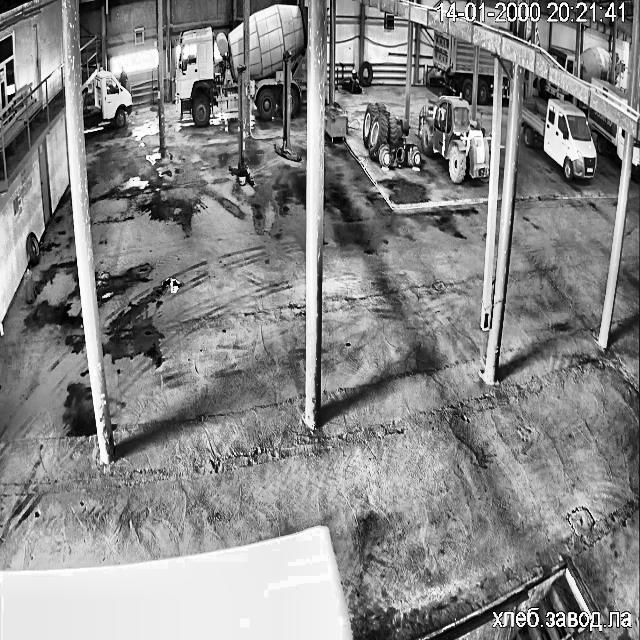class4: (119, 68, 128, 90)
class6: (418, 96, 489, 181), (362, 103, 420, 166)
class7: (176, 24, 244, 124), (248, 4, 306, 118), (521, 100, 596, 180), (433, 29, 474, 101), (83, 70, 132, 130), (588, 108, 624, 156), (580, 46, 610, 82), (477, 48, 494, 102), (592, 78, 628, 102), (536, 77, 570, 100), (548, 45, 574, 74), (632, 140, 640, 174), (500, 77, 508, 97), (616, 53, 621, 76), (504, 60, 510, 70), (504, 74, 506, 74)
truck: (274, 52, 300, 161), (229, 67, 253, 185)
